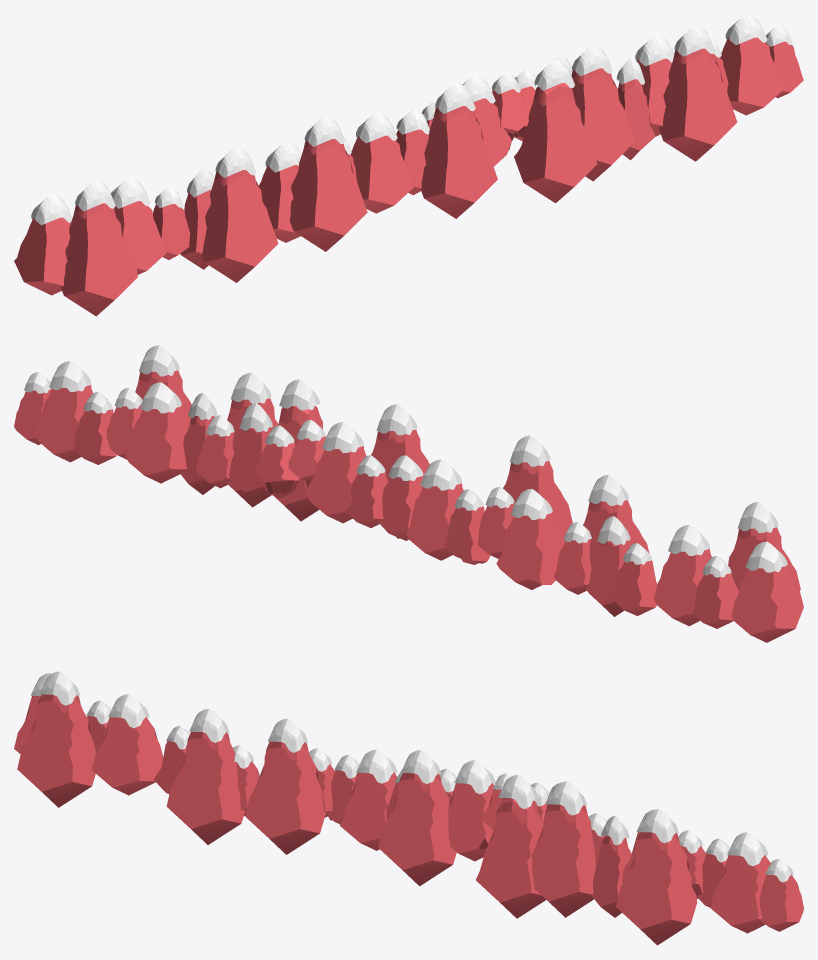
Rendered from dag.fbx.
The picture shows the model from 3 angles, top to bottom: view 1: azimuth 30°, elevation 25°; view 2: azimuth 150°, elevation 25°; view 3: azimuth 330°, elevation 25°; orthographic projection.
Visible parts, largest first — view 1: dağ.002; view 2: dağ.002; view 3: dağ.002.
Boxes of the visible parts, left/top/right/bottom form: dağ.002: left=14, top=14, right=803, bottom=316; dağ.002: left=14, top=345, right=803, bottom=642; dağ.002: left=14, top=671, right=803, bottom=945.
Size of the model in its own units: 70896 by 13123 by 8766.
